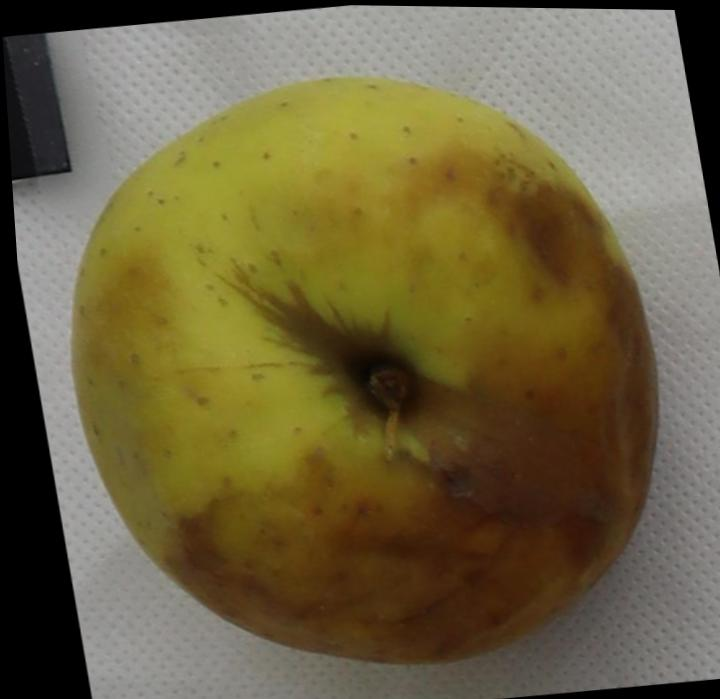apple: (72, 76, 655, 662)
rot_mold_decay: (141, 177, 656, 661)
